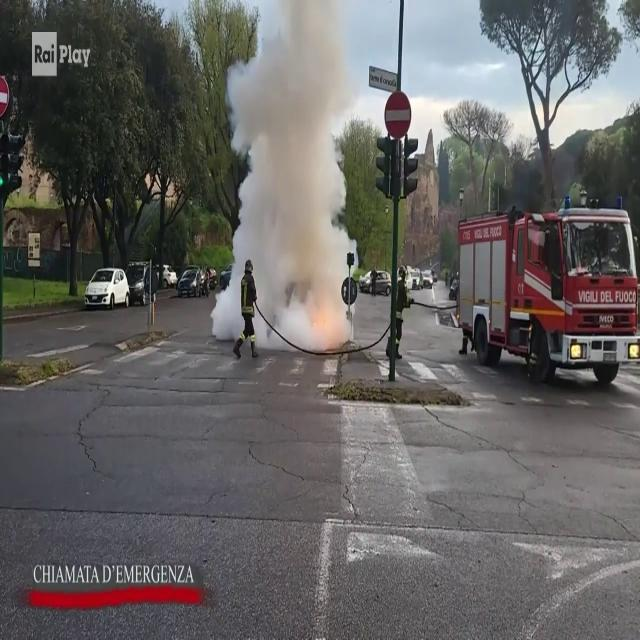Smoke: (220, 1, 358, 337)
